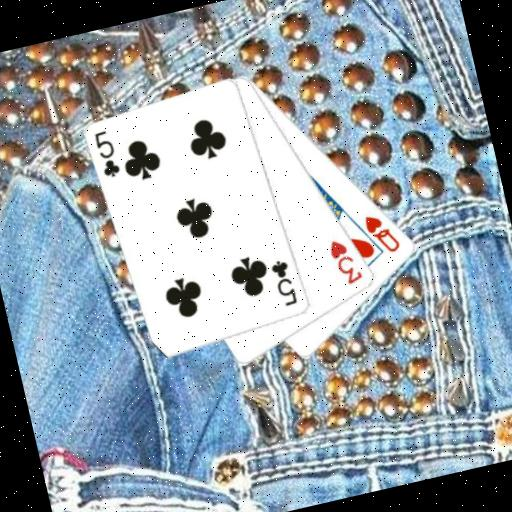3H: (325, 233, 366, 290)
5C: (266, 256, 300, 310), (90, 127, 123, 182)
QH: (361, 207, 404, 259)
